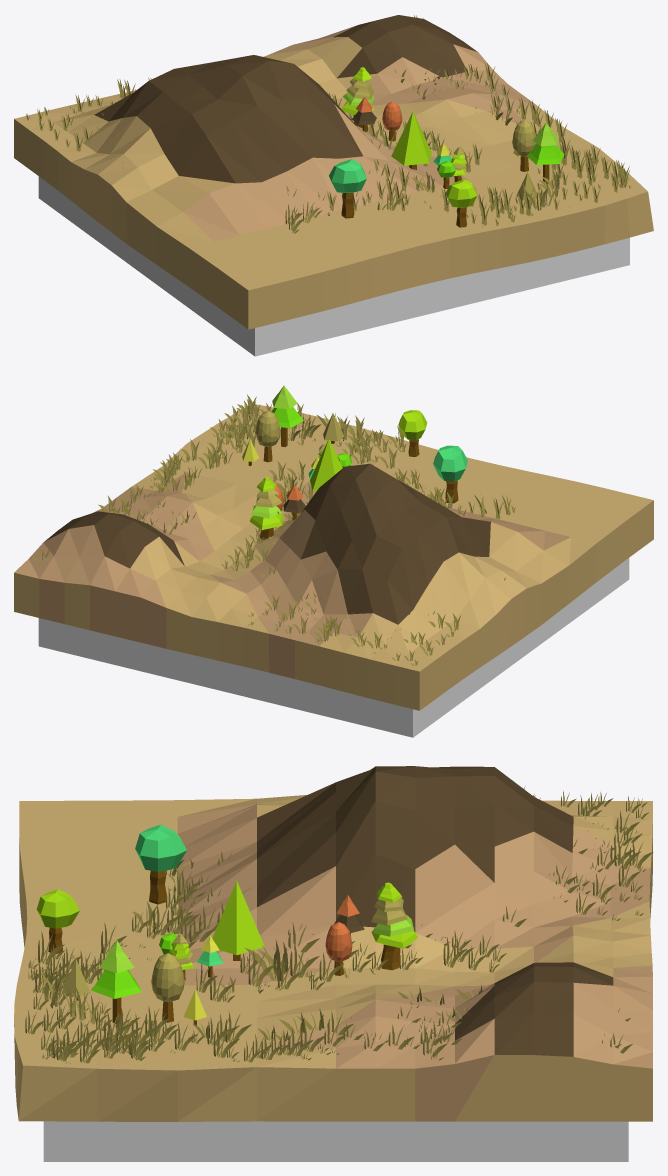
3 renders of one model, top to bottom at view 1: azimuth 30°, elevation 25°; view 2: azimuth 150°, elevation 25°; view 3: azimuth 270°, elevation 25°, orthographic. The views are drawn at different scales.
Visible parts, largest first — view 1: groud_up, groud_down, Cone009, Sphere002, Sphere001, Sphere004, Cone004; view 2: groud_up, groud_down, Sphere002, Cone009, Sphere004, Sphere001; view 3: groud_up, groud_down, Cone009, Sphere002, Sphere004, Sphere001, Cone004, Sphere005, Cone005, Cone001.
Part boxes in pixels (x1,y1,x2,y2): groud_up: (14, 15, 653, 329); groud_down: (38, 176, 629, 356); Cone009: (391, 111, 431, 165); Sphere002: (329, 159, 366, 192); Sphere001: (445, 179, 477, 207); Sphere004: (512, 120, 536, 156); Cone004: (527, 144, 564, 164); groud_up: (14, 404, 653, 710); groud_down: (38, 558, 629, 737); Sphere002: (433, 445, 467, 481); Cone009: (310, 439, 342, 491); Sphere004: (256, 411, 280, 446); Sphere001: (398, 410, 427, 439); groud_up: (14, 766, 652, 1121); groud_down: (43, 1121, 628, 1161); Cone009: (212, 881, 264, 955); Sphere002: (135, 824, 186, 871); Sphere004: (151, 953, 184, 1001); Sphere001: (36, 889, 79, 928); Cone004: (91, 969, 141, 998); Sphere005: (325, 922, 352, 961); Cone005: (99, 940, 134, 972); Cone001: (61, 959, 90, 997).
Size of the model in its own units: 13244 by 5280 by 13130.
